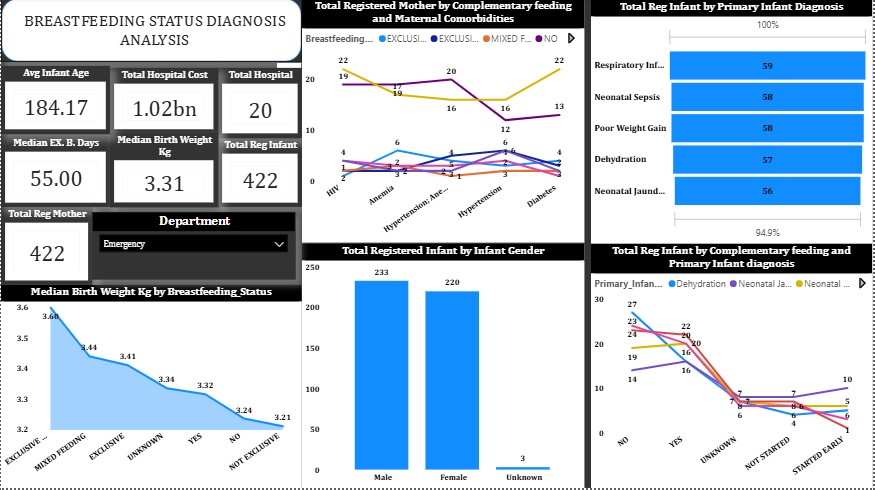

The dashboard page shown, as its layout file describes it:
{"tool":"powerbi","page":{"name":"Page 1","canvas":[1280,720],"ordinal":0},"visuals":[{"type":"shape","box":[0,0,1280,720.6],"z":0},{"type":"shape","box":[0,0,442.3,94],"z":1000},{"type":"textbox","box":[8.8,13.2,433.5,67.6],"z":2000},{"type":"cardVisual","title":"Total Reg Mother","fields":{"Data":["Clean_Breastfeeding.Total Registered Mother"]},"box":[0,307.4,134.4,114.2],"z":3000},{"type":"cardVisual","title":"Total Reg Infant","fields":{"Data":["Clean_Breastfeeding.Total Registered Infant"]},"box":[318.9,205.7,123.4,101.4],"z":4000},{"type":"cardVisual","title":"Total Hospital","fields":{"Data":["Clean_Breastfeeding.Total Hospital Visit"]},"box":[318.9,102.9,123.4,102.9],"z":5000},{"type":"cardVisual","title":"Total Hospital Cost","fields":{"Data":["Clean_Breastfeeding.Total Hospital Cost"]},"box":[160.2,102.9,158.7,97],"z":6000},{"type":"cardVisual","title":"Median EX. B. Days","fields":{"Data":["Clean_Breastfeeding.Median Exclusive Breastfeeding days"]},"box":[0,202.8,160.2,104.3],"z":7000},{"type":"cardVisual","title":"Median Birth Weight Kg","fields":{"Data":["Clean_Breastfeeding.Median Birth Weight Kg"]},"box":[160.2,198.4,158.7,108.7],"z":8000},{"type":"cardVisual","title":"Avg Infant Age ","fields":{"Data":["Clean_Breastfeeding.Avg Infant Age"]},"box":[0,99.9,160.2,99.9],"z":9000},{"type":"columnChart","title":"Total Registered Infant by Infant Gender","fields":{"Category":["Clean_Breastfeeding.Infant_Gender"],"Y":["Clean_Breastfeeding.Total Registered Infant"]},"box":[441.8,361.2,414.9,359.5],"z":10000},{"type":"lineChart","title":"Total Registered Mother by Complementary feeding and Maternal Comorbidities","fields":{"Category":["Clean_Breastfeeding.Maternal_Comorbidities"],"Y":["Clean_Breastfeeding.Total Registered Mother"],"Series":["Clean_Breastfeeding.Breastfeeding_Status"]},"box":[441.8,1.7,414.9,357.8],"z":11000},{"type":"funnel","title":"Total Reg Infant by Primary Infant Diagnosis","fields":{"Category":["Clean_Breastfeeding.Primary_Infant_Diagnosis"],"Y":["Clean_Breastfeeding.Total Registered Infant"]},"box":[866.8,3.4,413.2,357.8],"z":12000},{"type":"lineChart","title":"Total Reg Infant by Complementary feeding and Primary Infant diagnosis","fields":{"Category":["Clean_Breastfeeding.Complementary_Feeding"],"Series":["Clean_Breastfeeding.Primary_Infant_Diagnosis"],"Y":["Clean_Breastfeeding.Total Registered Infant"]},"box":[866.8,361.2,413.2,359.5],"z":13000},{"type":"areaChart","fields":{"Category":["Clean_Breastfeeding.Breastfeeding_Status"],"Y":["Clean_Breastfeeding.Median Birth Weight Kg"]},"box":[0,421.6,441.8,299],"z":14000},{"type":"slicer","title":"Department","fields":{"Values":["Clean_Breastfeeding.Department"]},"box":[134.4,314.1,299,99.1],"z":15000}]}

Visuals, with their boxes in screenshot pixels (x1, y1, x2, y2), scaled from the page's 1280x720 canvas onto the 875x490 screenshot:
shape: l=0, t=0, r=874, b=489
shape: l=0, t=0, r=302, b=64
textbox: l=6, t=9, r=302, b=55
"Total Reg Mother" cardVisual: l=0, t=209, r=92, b=287
"Total Reg Infant" cardVisual: l=218, t=140, r=302, b=209
"Total Hospital" cardVisual: l=218, t=70, r=302, b=140
"Total Hospital Cost" cardVisual: l=110, t=70, r=218, b=136
"Median EX. B. Days" cardVisual: l=0, t=138, r=110, b=209
"Median Birth Weight Kg" cardVisual: l=110, t=135, r=218, b=209
"Avg Infant Age " cardVisual: l=0, t=68, r=110, b=136
"Total Registered Infant by Infant Gender" columnChart: l=302, t=246, r=586, b=489
"Total Registered Mother by Complementary feeding and Maternal Comorbidities" lineChart: l=302, t=1, r=586, b=245
"Total Reg Infant by Primary Infant Diagnosis" funnel: l=593, t=2, r=874, b=246
"Total Reg Infant by Complementary feeding and Primary Infant diagnosis" lineChart: l=593, t=246, r=874, b=489
areaChart - Clean_Breastfeeding.Breastfeeding_Status x Clean_Breastfeeding.Median Birth Weight Kg: l=0, t=287, r=302, b=489
"Department" slicer: l=92, t=214, r=296, b=281
